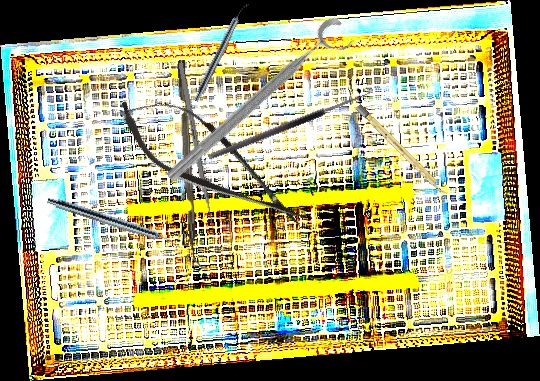Chopper: (177, 59, 206, 269)
Fixation Ring: (160, 13, 359, 197)
Handpiece: (45, 194, 181, 251), (192, 0, 250, 104)
Hook Surgical: (204, 80, 373, 162)
Micro Scissor: (104, 76, 320, 248)
Pusher: (177, 62, 218, 240)
Scalpel Handle: (355, 104, 449, 197)
